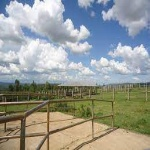Uncultivated: (3, 85, 149, 148)
